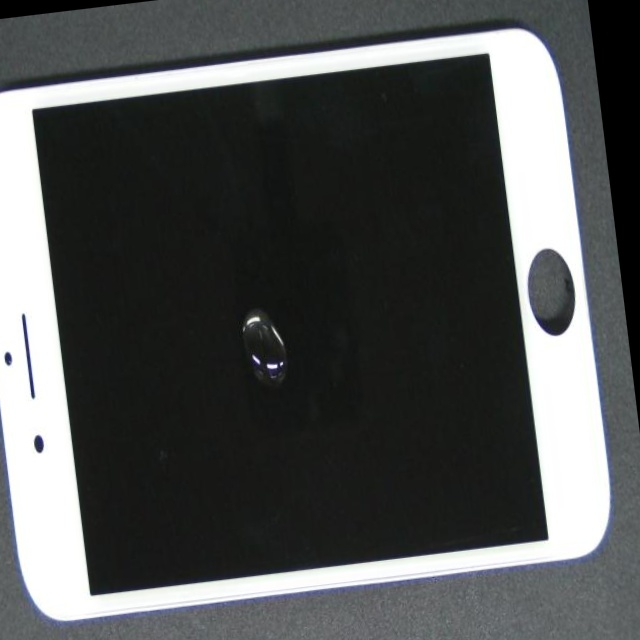oil: (83, 104, 415, 498)
